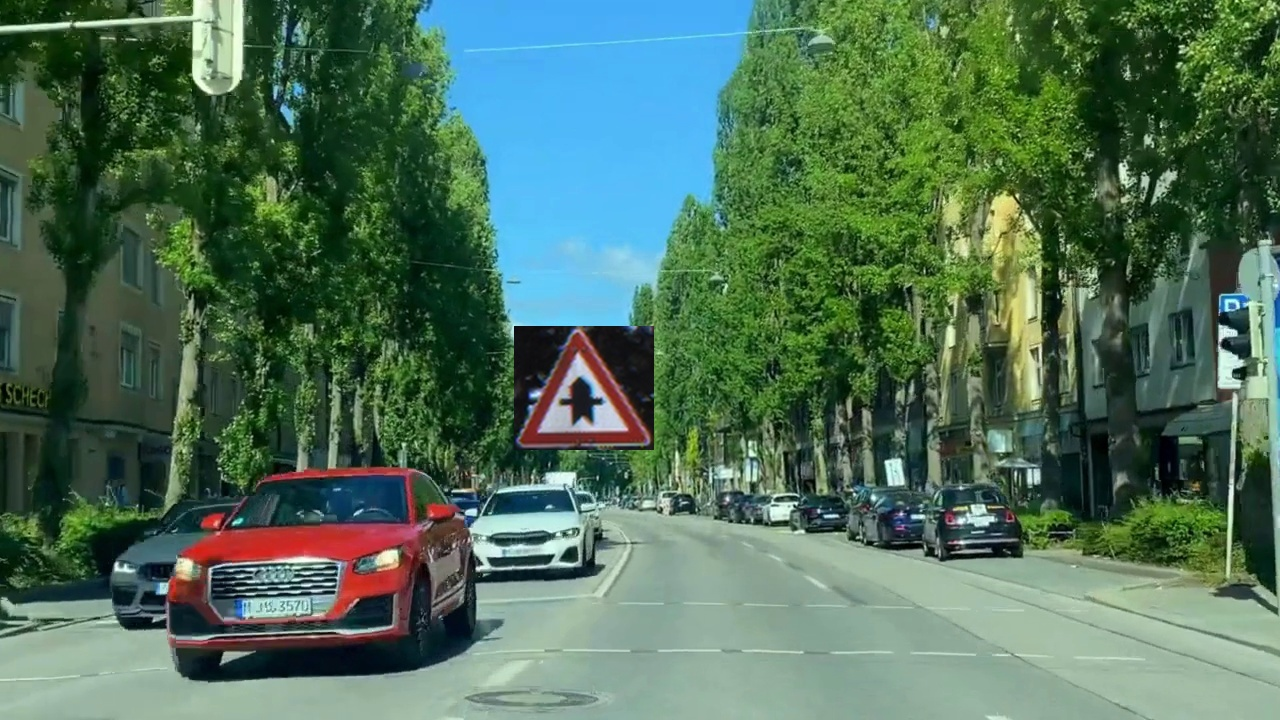Right-of-way: (514, 326, 654, 450)
